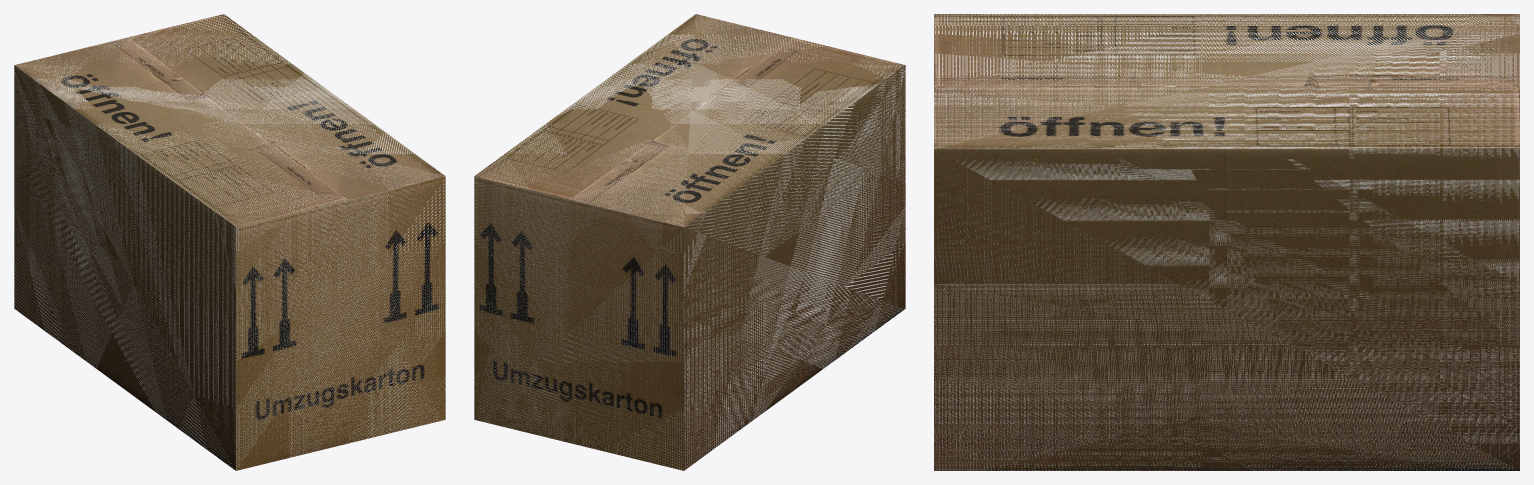
File: carton_small.dae
3 views of the same model, side by side, from view 1: azimuth 30°, elevation 25°; view 2: azimuth 150°, elevation 25°; view 3: azimuth 270°, elevation 25° (orthographic). The views are drawn at different scales.
Visible parts, largest first — view 1: SketchUp (×3); view 2: SketchUp (×3); view 3: SketchUp (×2).
Boxes of the visible parts, x1,y1,x2,y2 form: SketchUp (×3): [14, 14, 445, 470]; SketchUp (×3): [474, 14, 905, 470]; SketchUp (×2): [934, 14, 1519, 470].
Size of the model in its own units: 0.3603 by 0.6595 by 0.3996.
Materials: 4 (3 with a texture image).
